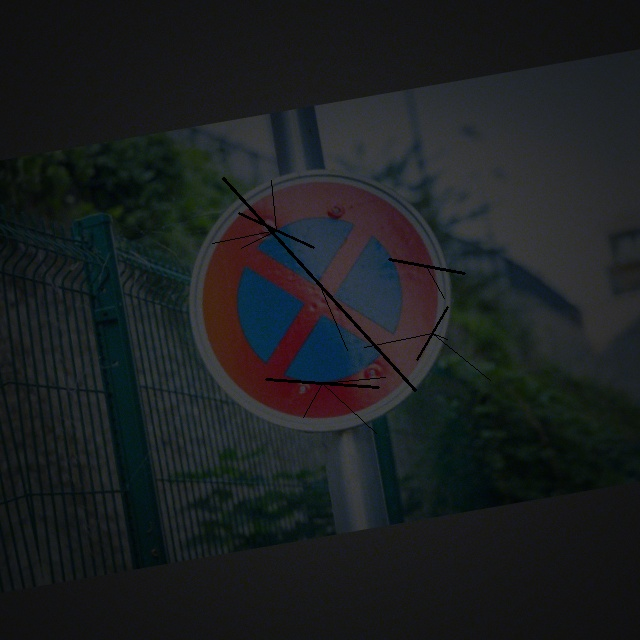No_Stopping_or_Standing: (177, 166, 470, 438)
